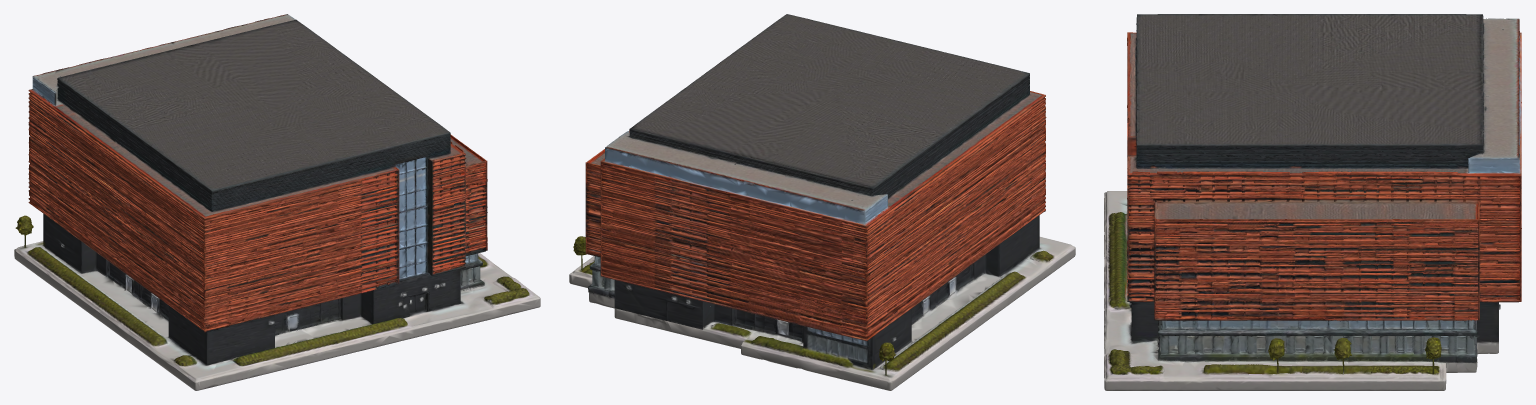
File: b8-datacenter.glb
3 renders of one model, left to right at view 1: azimuth 30°, elevation 25°; view 2: azimuth 150°, elevation 25°; view 3: azimuth 270°, elevation 25°, orthographic. The views are drawn at different scales.
Parts seen in each view (by area): view 1: tripo_node_53d1d74c-2aa3-4152-9e3f-ef797b9d1b74; view 2: tripo_node_53d1d74c-2aa3-4152-9e3f-ef797b9d1b74; view 3: tripo_node_53d1d74c-2aa3-4152-9e3f-ef797b9d1b74.
Part boxes in pixels (bbox=[...]): tripo_node_53d1d74c-2aa3-4152-9e3f-ef797b9d1b74: bbox=[14, 14, 540, 390]; tripo_node_53d1d74c-2aa3-4152-9e3f-ef797b9d1b74: bbox=[569, 14, 1075, 390]; tripo_node_53d1d74c-2aa3-4152-9e3f-ef797b9d1b74: bbox=[1104, 14, 1521, 390].
Size of the model in its own units: 0.9664 by 0.4903 by 0.9008.
1 material, 1 textured.
